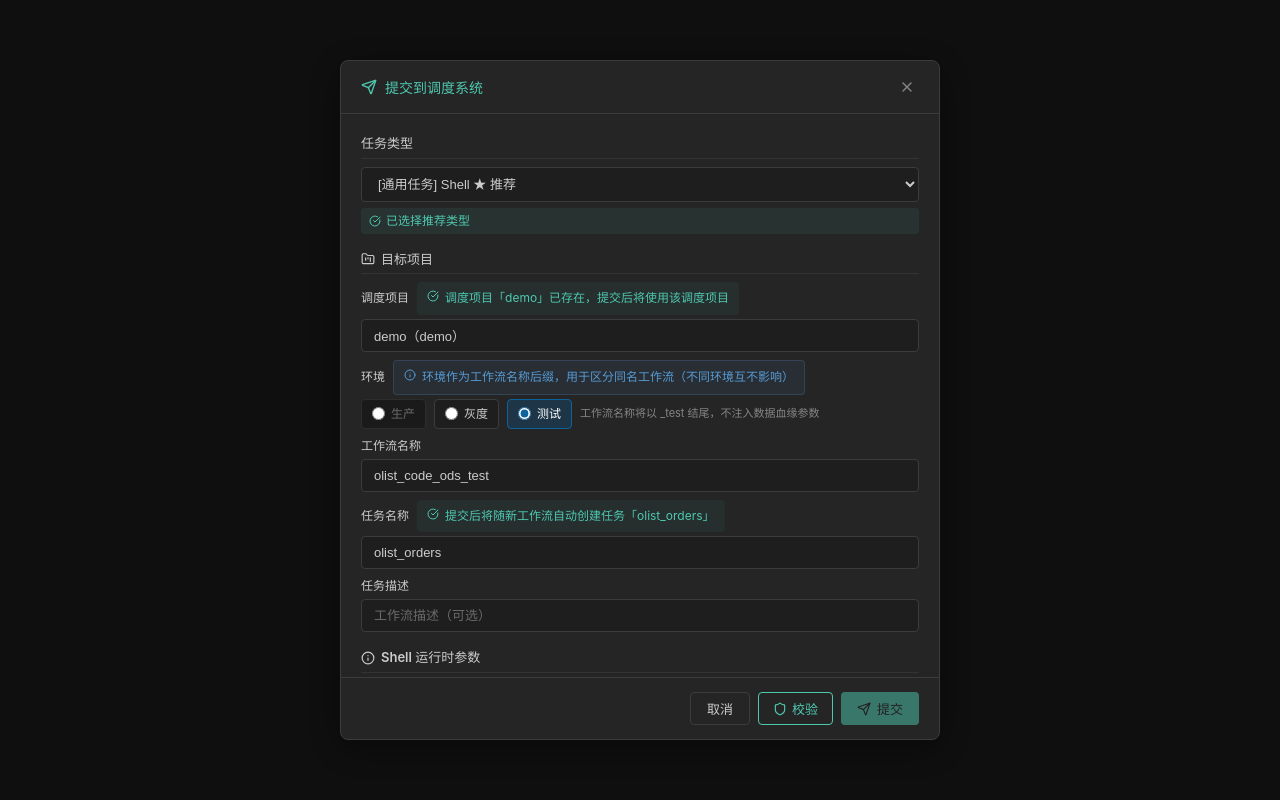
SubmitToSchedulerModal — 角色准入（生产仅运维/超管） › 越权把环境切到生产（绕过置灰）时校验按角色拦截
Expected: the field with test id "submit-scheduler-workflow-name" holds "olist_code_ods_test", [361,459,919,492]
Step 1. Click the radio button labelled "生产" → (378, 414), box [372,407,385,420]
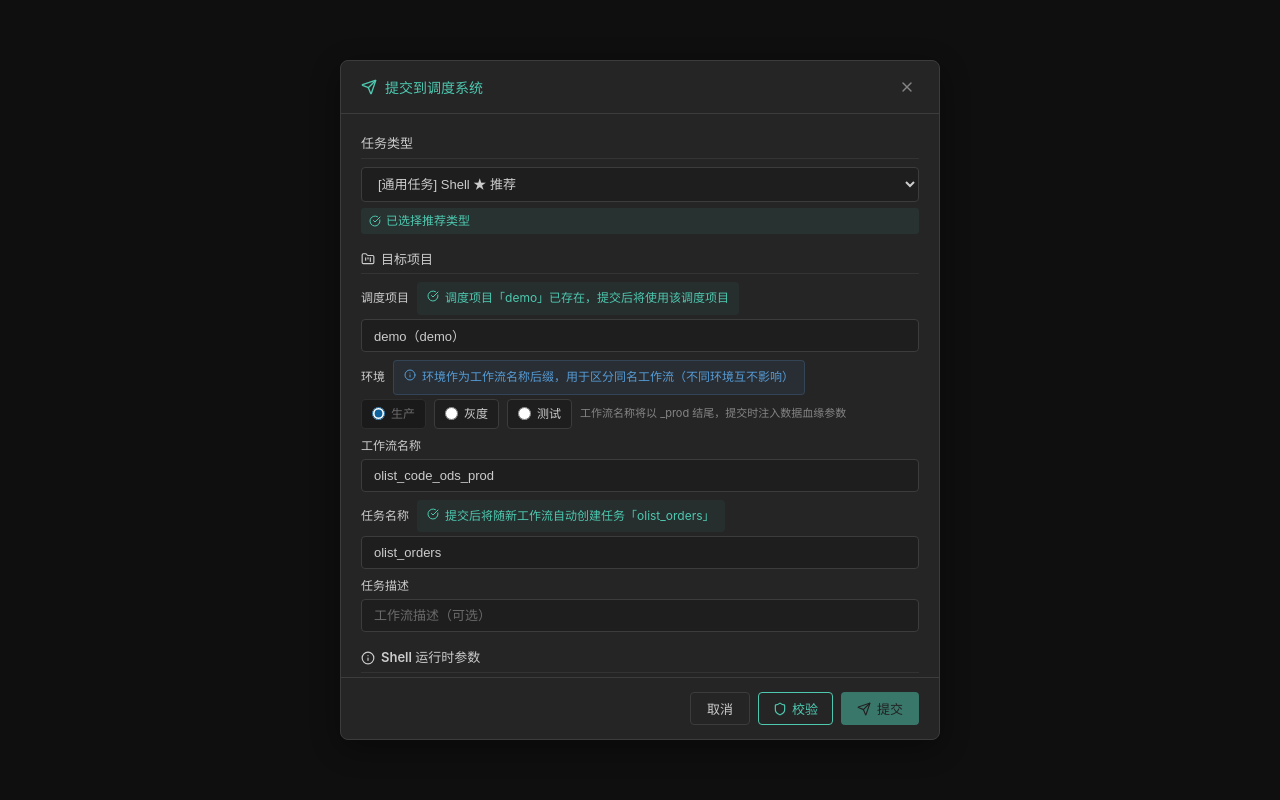
Expected: the field with test id "submit-scheduler-workflow-name" holds "olist_code_ods_prod", [361,459,919,492]
Step 2. Press the mouse on the button "校验" → (796, 708), box [758,692,833,725]
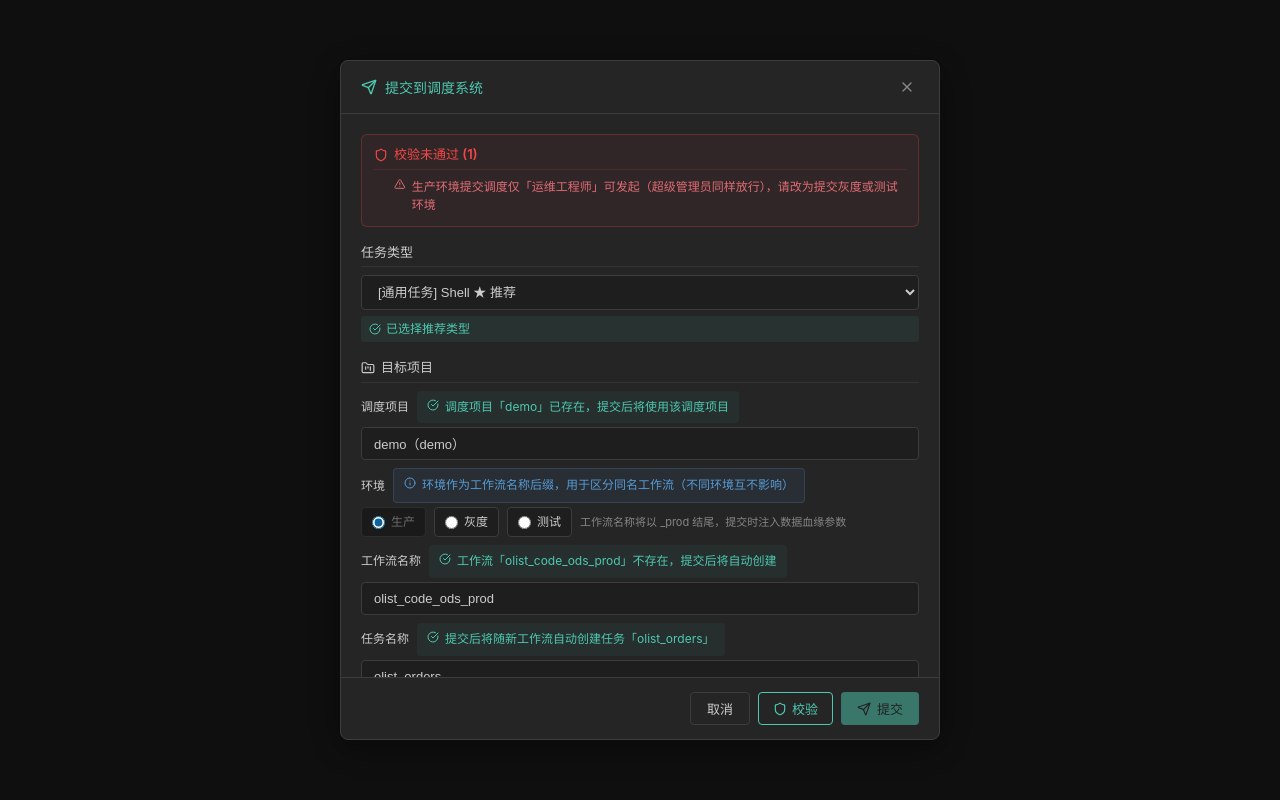
Expected: the button with class "submit-scheduler__submit-btn" is disabled, [841,692,919,725]
Expected: the text "生产环境提交调度仅「运维工程师」可发起" is shown, [412,178,898,212]
